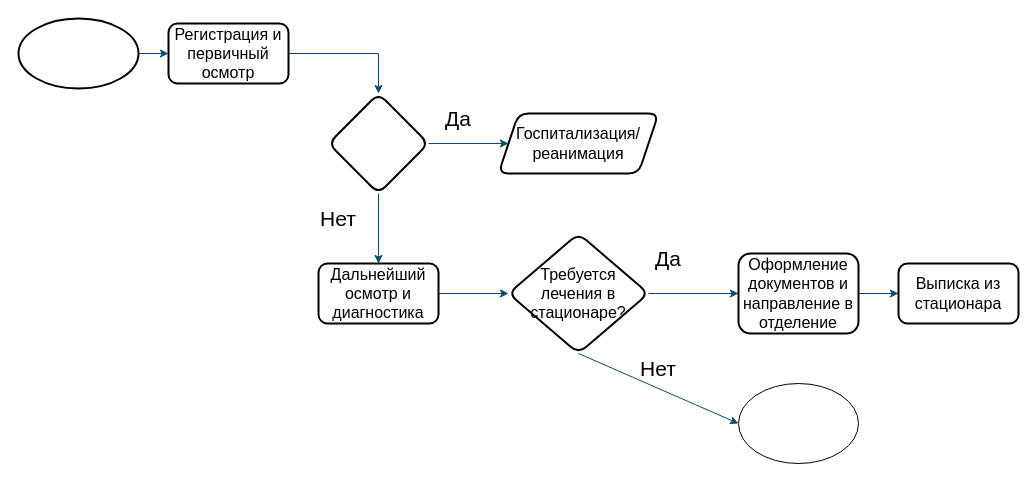
This 1036x481 diagram has some shape labels left out. The shapes that lost their labels are listed below. From the top down, each one's centre as x and y in pixels, then its label:
the point at 78,53: Пациент поступает
the point at 378,143: Тяжёлое состояние?
the point at 798,423: Выписка из приёмного покоя
